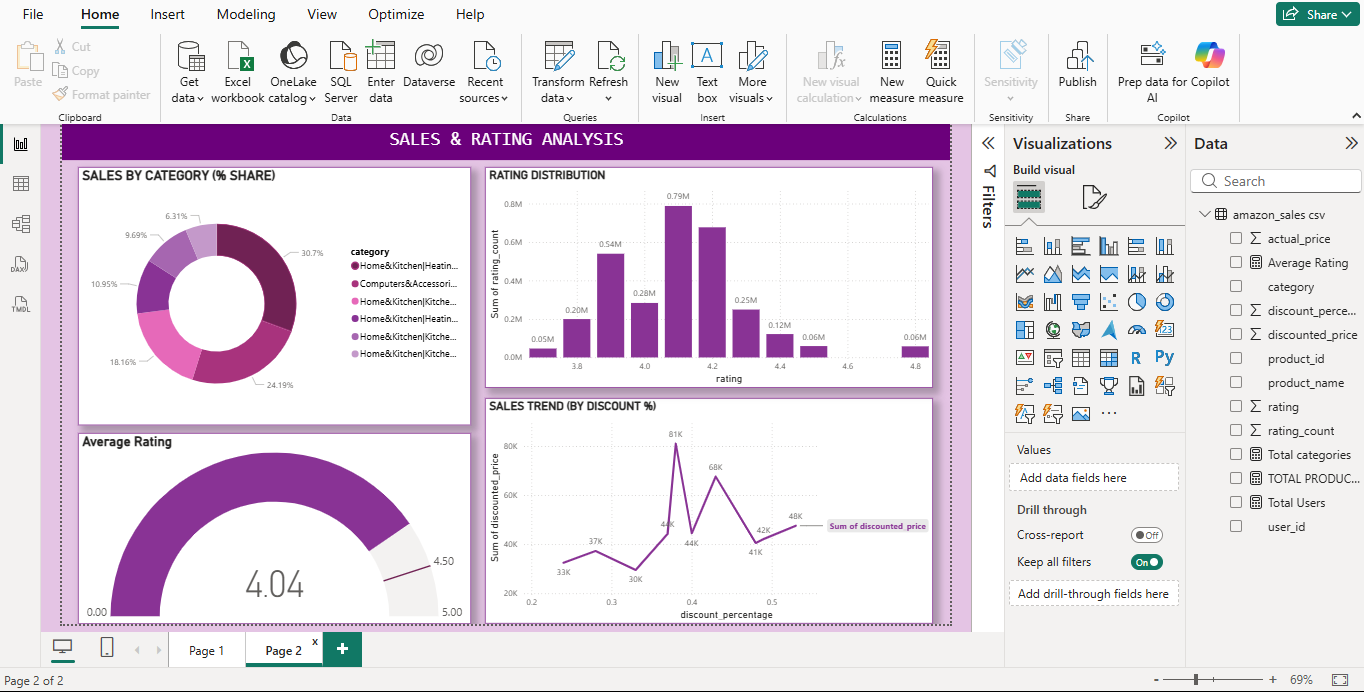

The dashboard page shown, as its layout file describes it:
{"tool":"powerbi","page":{"name":"Page 2","canvas":[1280,720],"ordinal":1},"visuals":[{"type":"lineChart","title":"SALES TREND (BY DISCOUNT %)","fields":{"Y":["Sum(amazon_sales csv.discounted_price)"],"Category":["amazon_sales csv.discount_percentage"]},"box":[609.1,394.6,645.1,325.4],"z":0},{"type":"clusteredColumnChart","title":"RATING DISTRIBUTION","fields":{"Category":["amazon_sales csv.rating"],"Y":["Sum(amazon_sales csv.rating_count)"]},"box":[609.1,61.9,645.1,318.2],"z":1000},{"type":"donutChart","title":"SALES BY CATEGORY (% SHARE)","fields":{"Category":["amazon_sales csv.category"],"Y":["Avg(amazon_sales csv.actual_price)"]},"box":[23,61.9,565.9,371.5],"z":2000},{"type":"gauge","fields":{"Y":["amazon_sales csv.Average Rating"]},"box":[23,445,565.9,275],"z":3000},{"type":"textbox","box":[0,0,1280.2,51.8],"z":4000}]}

Visuals, with their boxes on the page's 1280x720 design canvas (x1, y1, x2, y2). These are canvas units, not pixel positions in the 1364x692 screenshot, which may show the page scaled, cropped or inside an application window:
"SALES TREND (BY DISCOUNT %)" lineChart: l=609, t=395, r=1254, b=720
"RATING DISTRIBUTION" clusteredColumnChart: l=609, t=62, r=1254, b=380
"SALES BY CATEGORY (% SHARE)" donutChart: l=23, t=62, r=589, b=433
gauge - amazon_sales csv.Average Rating: l=23, t=445, r=589, b=720
textbox: l=0, t=0, r=1280, b=52
